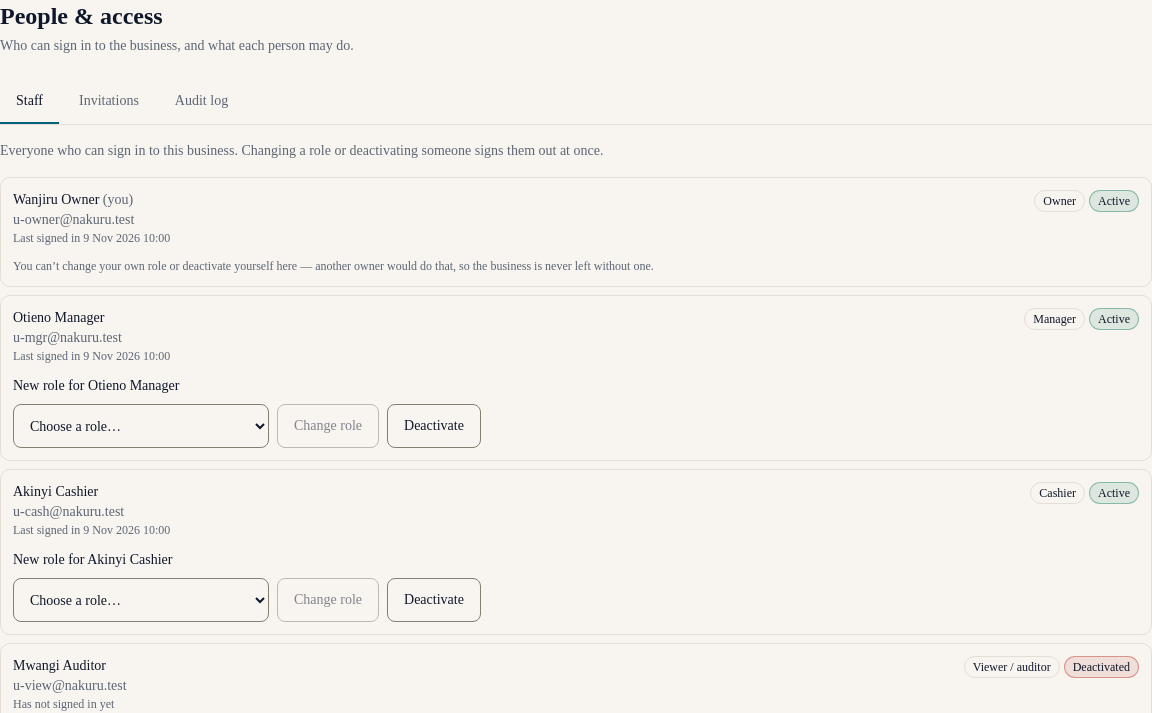
it: the staff list › offers exactly the tenant roles, and changes a role after confirming
This screenshot has width=1152, height=713.
Expected: the button "Change role" below "New role for Akinyi Cashier" is disabled, [277,578,379,622]
Select "Manager" in the dropdown labelled "New role for Akinyi Cashier" at (141, 600), box [13,578,269,622]
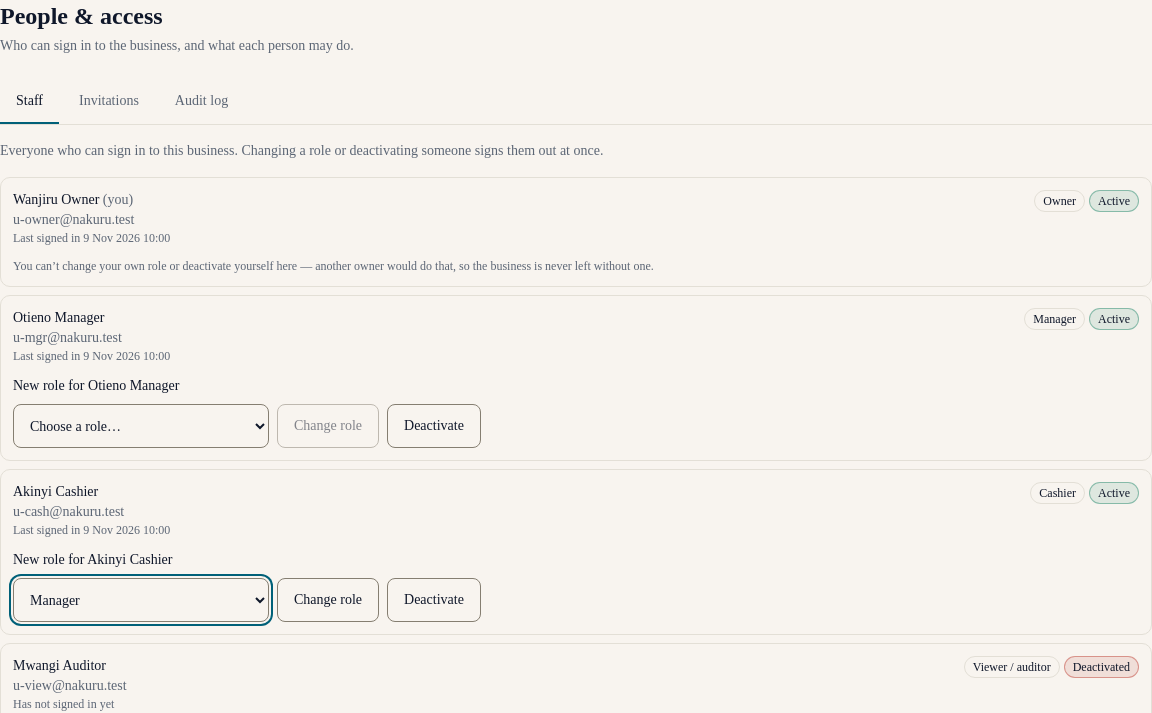
Click the button "Change role" below "New role for Akinyi Cashier".
click(328, 600)  # box [277,578,379,622]
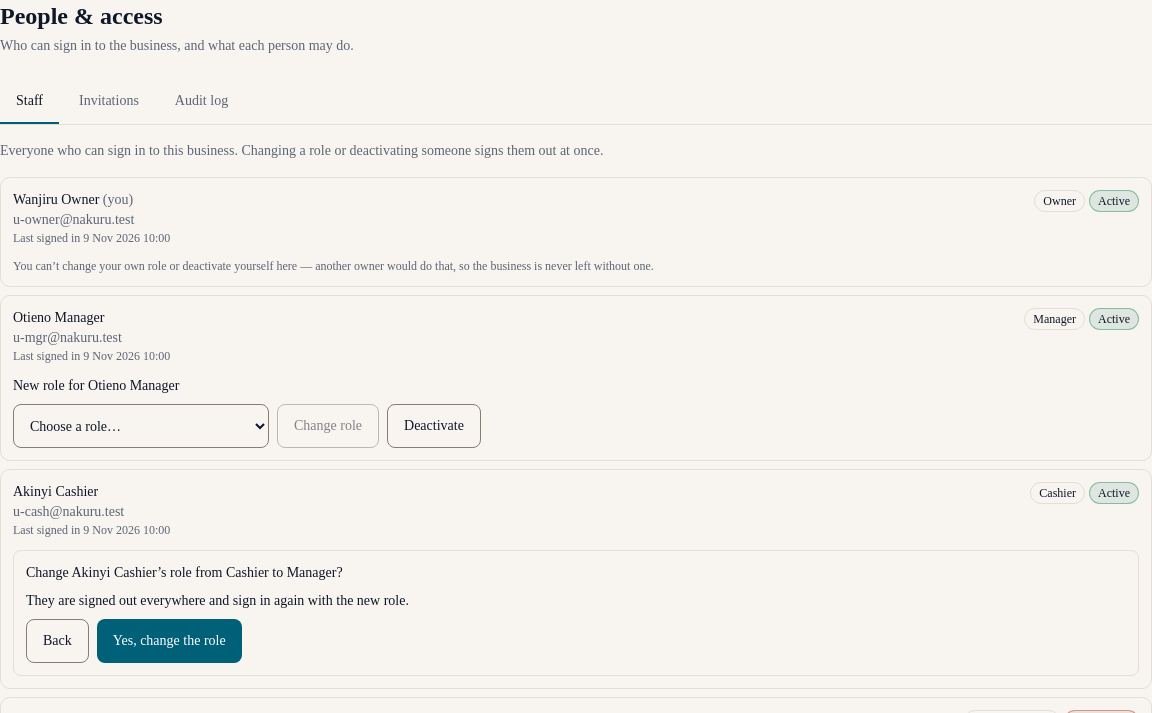
Result: the dialog "Change Akinyi Cashier’s role from Cashier to Manager?" shows "signed out everywhere" at [26,593,409,608]
Click the button "Yes, change the role".
click(169, 641)  # box [97,619,242,663]
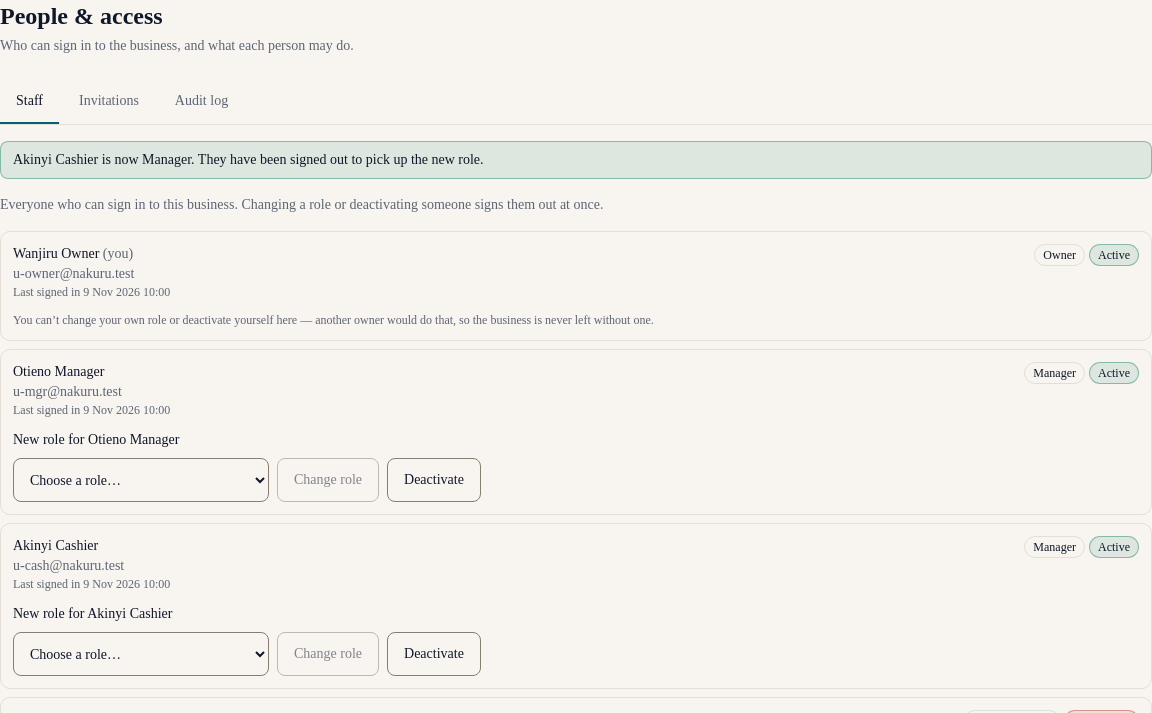
Result: the text "Akinyi Cashier is now Manager" is shown at [13,152,484,167]
Result: the 2nd text "Manager" is shown at [1024,536,1085,558]
